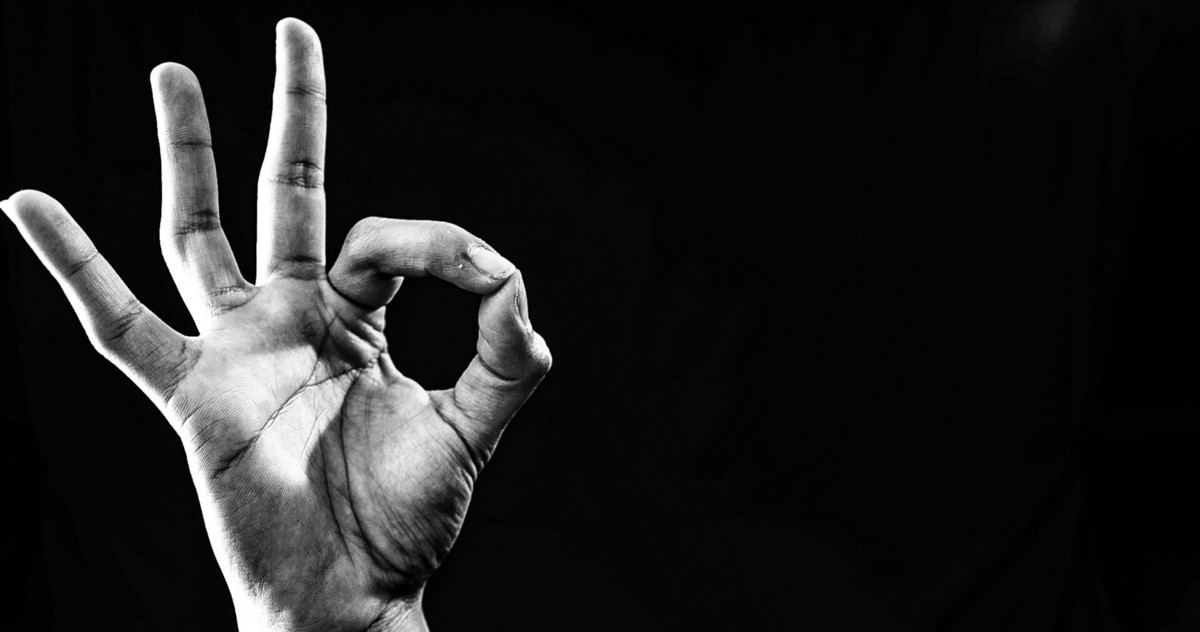oksign: (27, 19, 556, 602)
